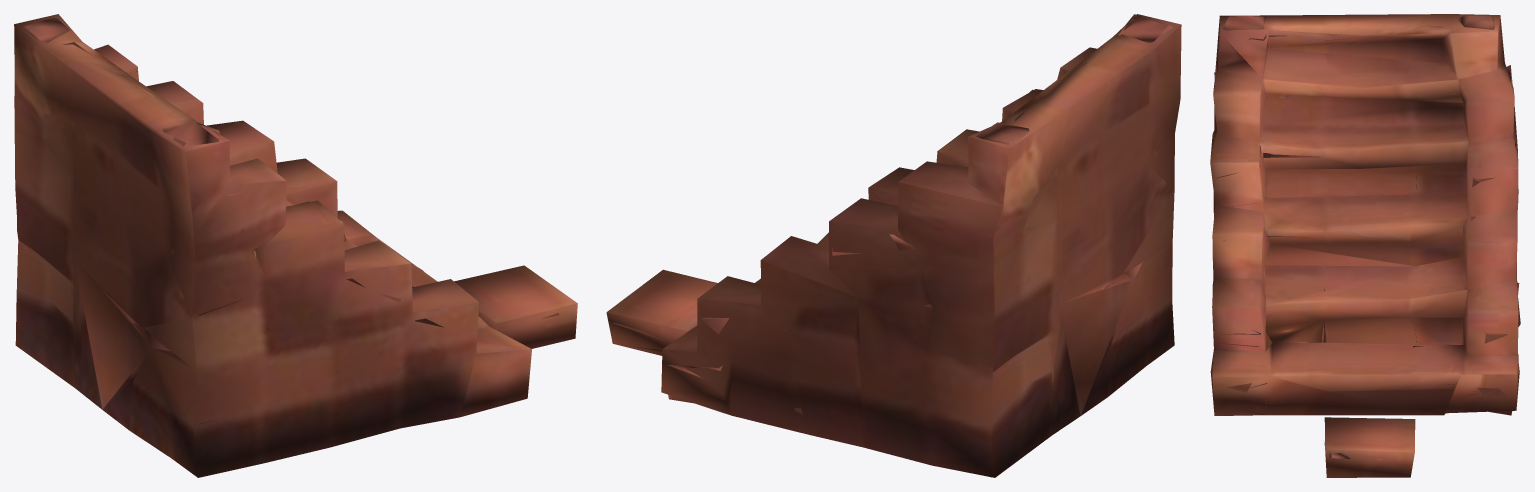
Rendered from lg-boss-arena-bleachers.glb.
3 renders of one model, left to right at view 1: azimuth 30°, elevation 25°; view 2: azimuth 150°, elevation 25°; view 3: azimuth 270°, elevation 25°, orthographic. The views are drawn at different scales.
Parts seen in each view (by area): view 1: geometry_0; view 2: geometry_0; view 3: geometry_0.
Boxes of the visible parts, x1,y1,x2,y2 form: geometry_0: (14, 14, 577, 477); geometry_0: (606, 14, 1181, 477); geometry_0: (1210, 14, 1520, 477).
Bounding box in the file's own units: 1 × 0.7315 × 0.7186.
1 material, 1 textured.
